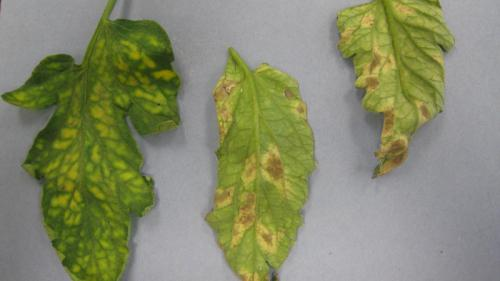Tomato mold leaf: (7, 12, 183, 281), (198, 58, 319, 281), (337, 1, 459, 171)
